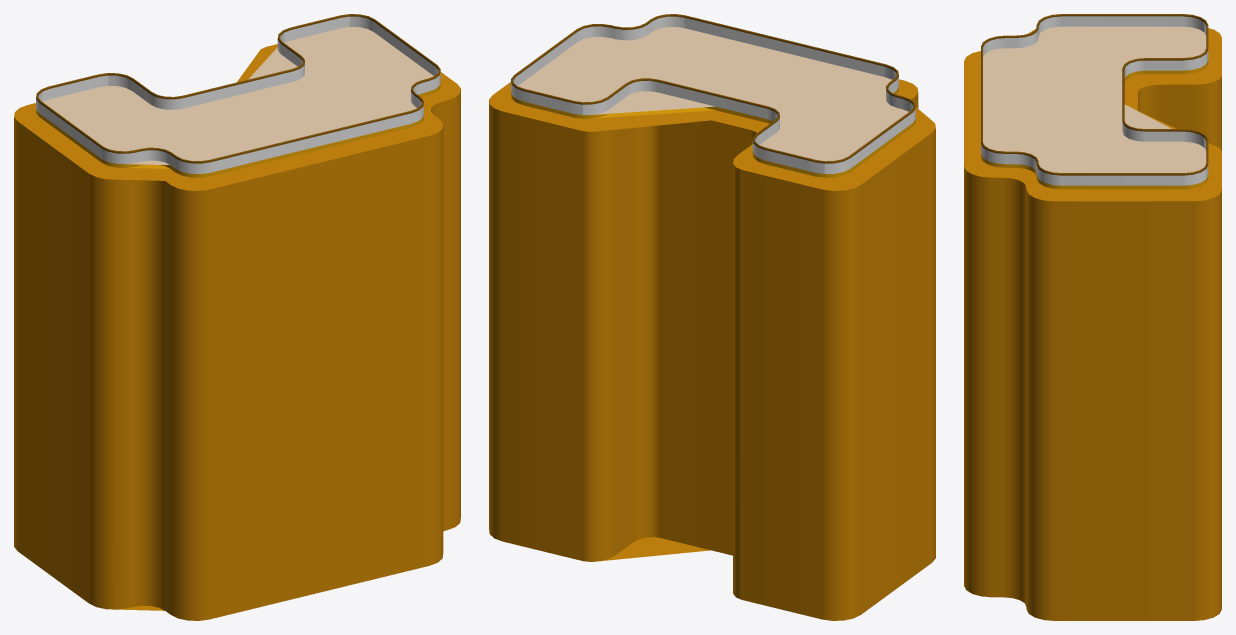
The picture shows the model from 3 angles, left to right: view 1: azimuth 30°, elevation 25°; view 2: azimuth 150°, elevation 25°; view 3: azimuth 270°, elevation 25°; orthographic projection. The views are drawn at different scales.
Parts seen in each view (by area): view 1: base41, base16, polySurface1187, polySurface570, polySurface1185, polySurface1186; view 2: base41, base16, polySurface1187, polySurface570, polySurface1186, polySurface1185; view 3: base41, base16, polySurface1186, polySurface1185, polySurface570, polySurface1187.
Boxes of the visible parts, <box> form: base41: <box>14,44,460,620</box>; base16: <box>36,27,440,177</box>; polySurface1187: <box>108,32,304,109</box>; polySurface570: <box>36,14,440,163</box>; polySurface1185: <box>36,92,211,173</box>; polySurface1186: <box>350,16,440,123</box>; base41: <box>489,79,935,620</box>; base16: <box>511,27,915,177</box>; polySurface1187: <box>583,80,779,157</box>; polySurface570: <box>511,14,915,163</box>; polySurface1186: <box>511,16,684,98</box>; polySurface1185: <box>824,66,915,173</box>; base41: <box>964,28,1221,620</box>; base16: <box>981,26,1208,189</box>; polySurface1186: <box>981,144,1206,185</box>; polySurface1185: <box>983,16,1204,57</box>; polySurface570: <box>981,14,1206,175</box>; polySurface1187: <box>1122,54,1206,147</box>.
Size of the model in its own units: 97.83 by 114 by 60.83.
